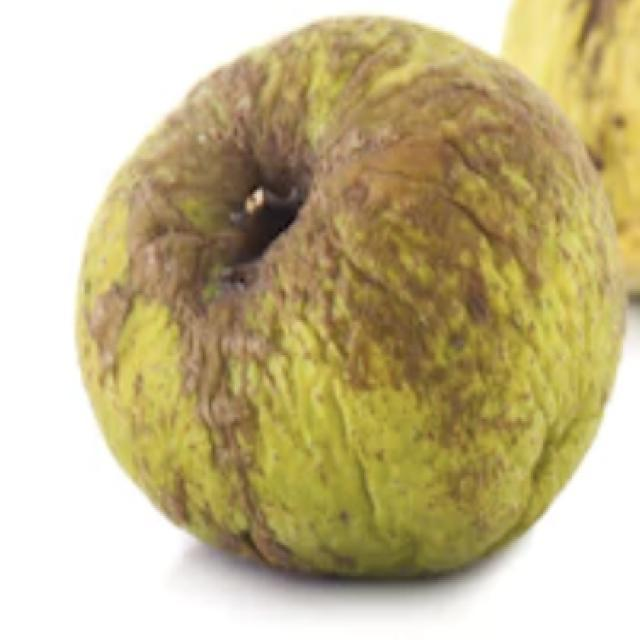Rotten: (88, 39, 597, 564)
